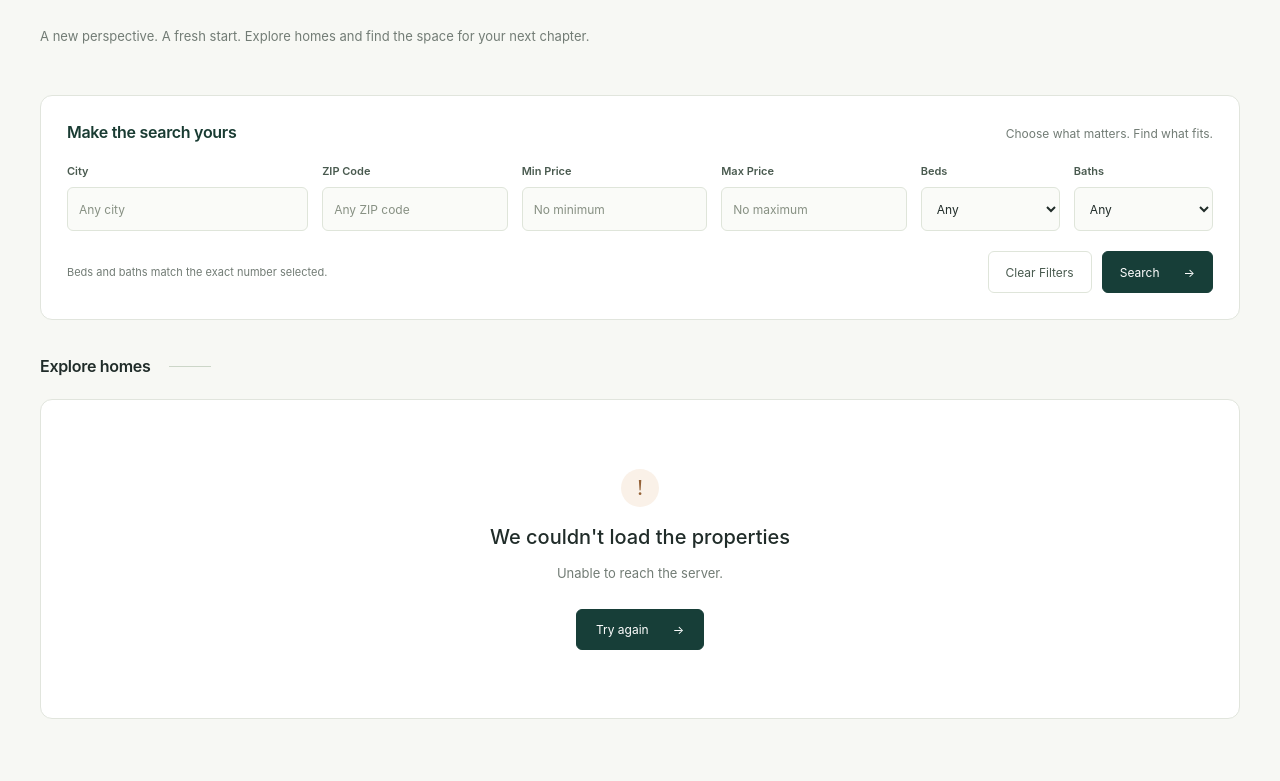
displays an API error and allows retrying successfully
The image size is (1280, 781).
(page scrolled)
Expected: the message shows "Unable to reach the server.", [557, 565, 723, 581]
What coordinates should you click on to do the following:
click the button "Try again →"
I would click on:
 (640, 629)
Its box is [576, 608, 704, 650].
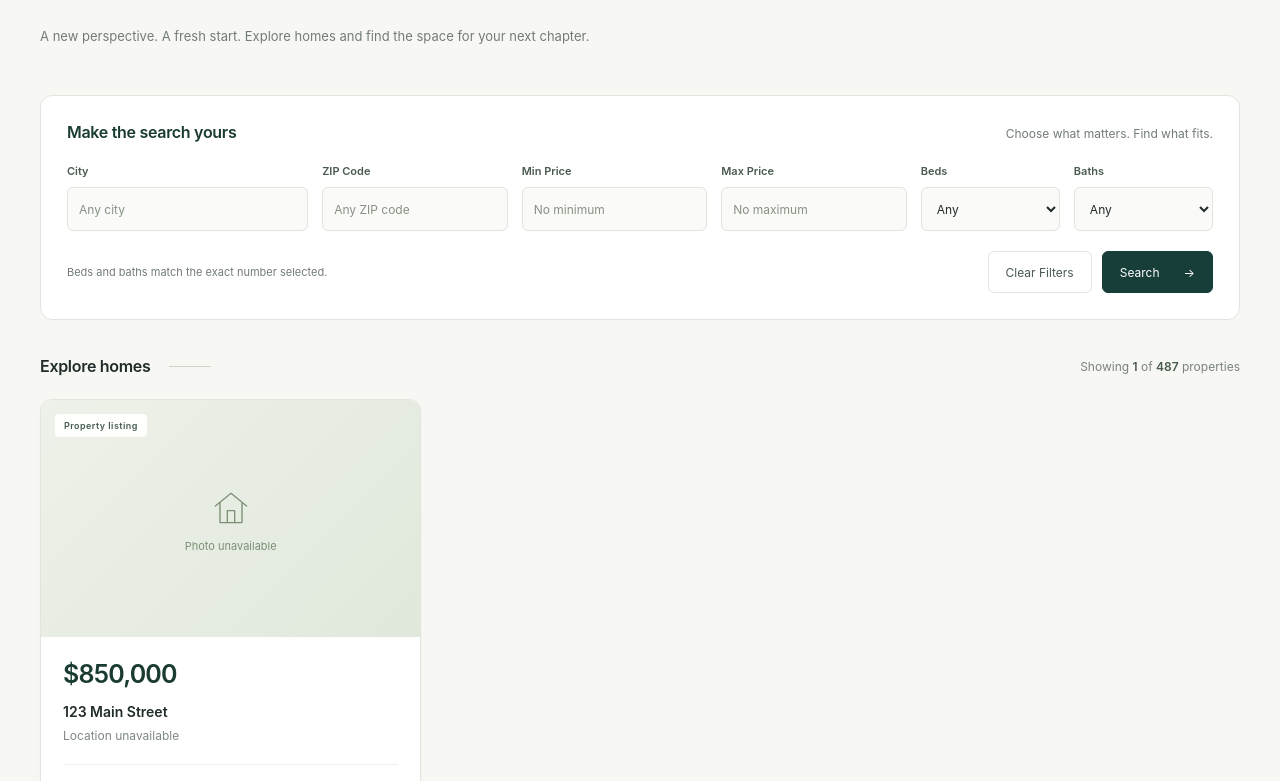
Expected: the heading "123 Main Street" is shown, [63, 703, 168, 720]
